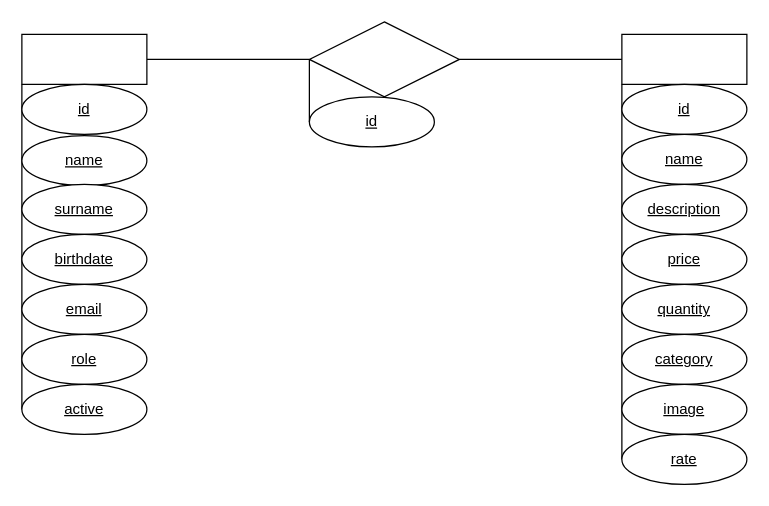
Image size: 769x506. Some labels were removed from this diagram. Here are the shapes that lost their labels. From the top down, the centre of each, then its label:
[84,58]: users
[383,59]: ponen en carrito
[684,58]: products
